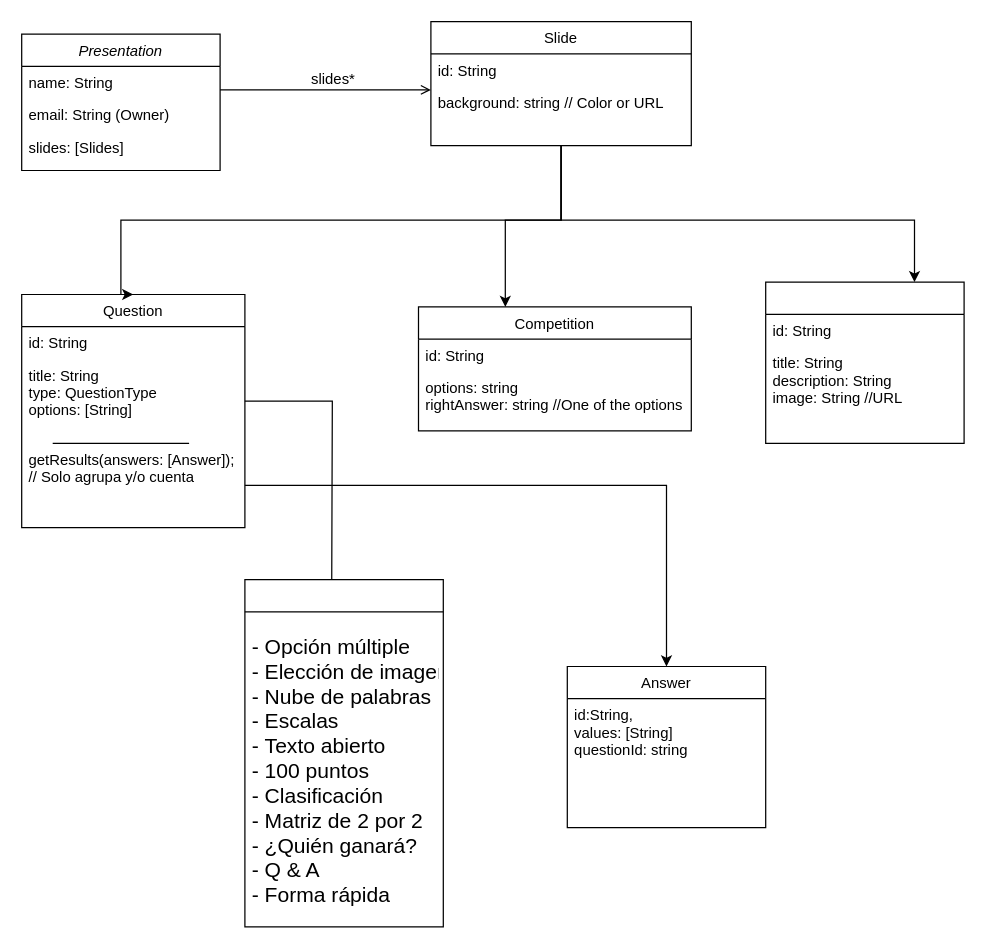
Some shapes in this 986 by 949 pixel diagram are drawn without their labels. Each missing label, with the box of its shape:
Content: (764, 281, 964, 443)
Enum QuestionType: (244, 578, 443, 927)
